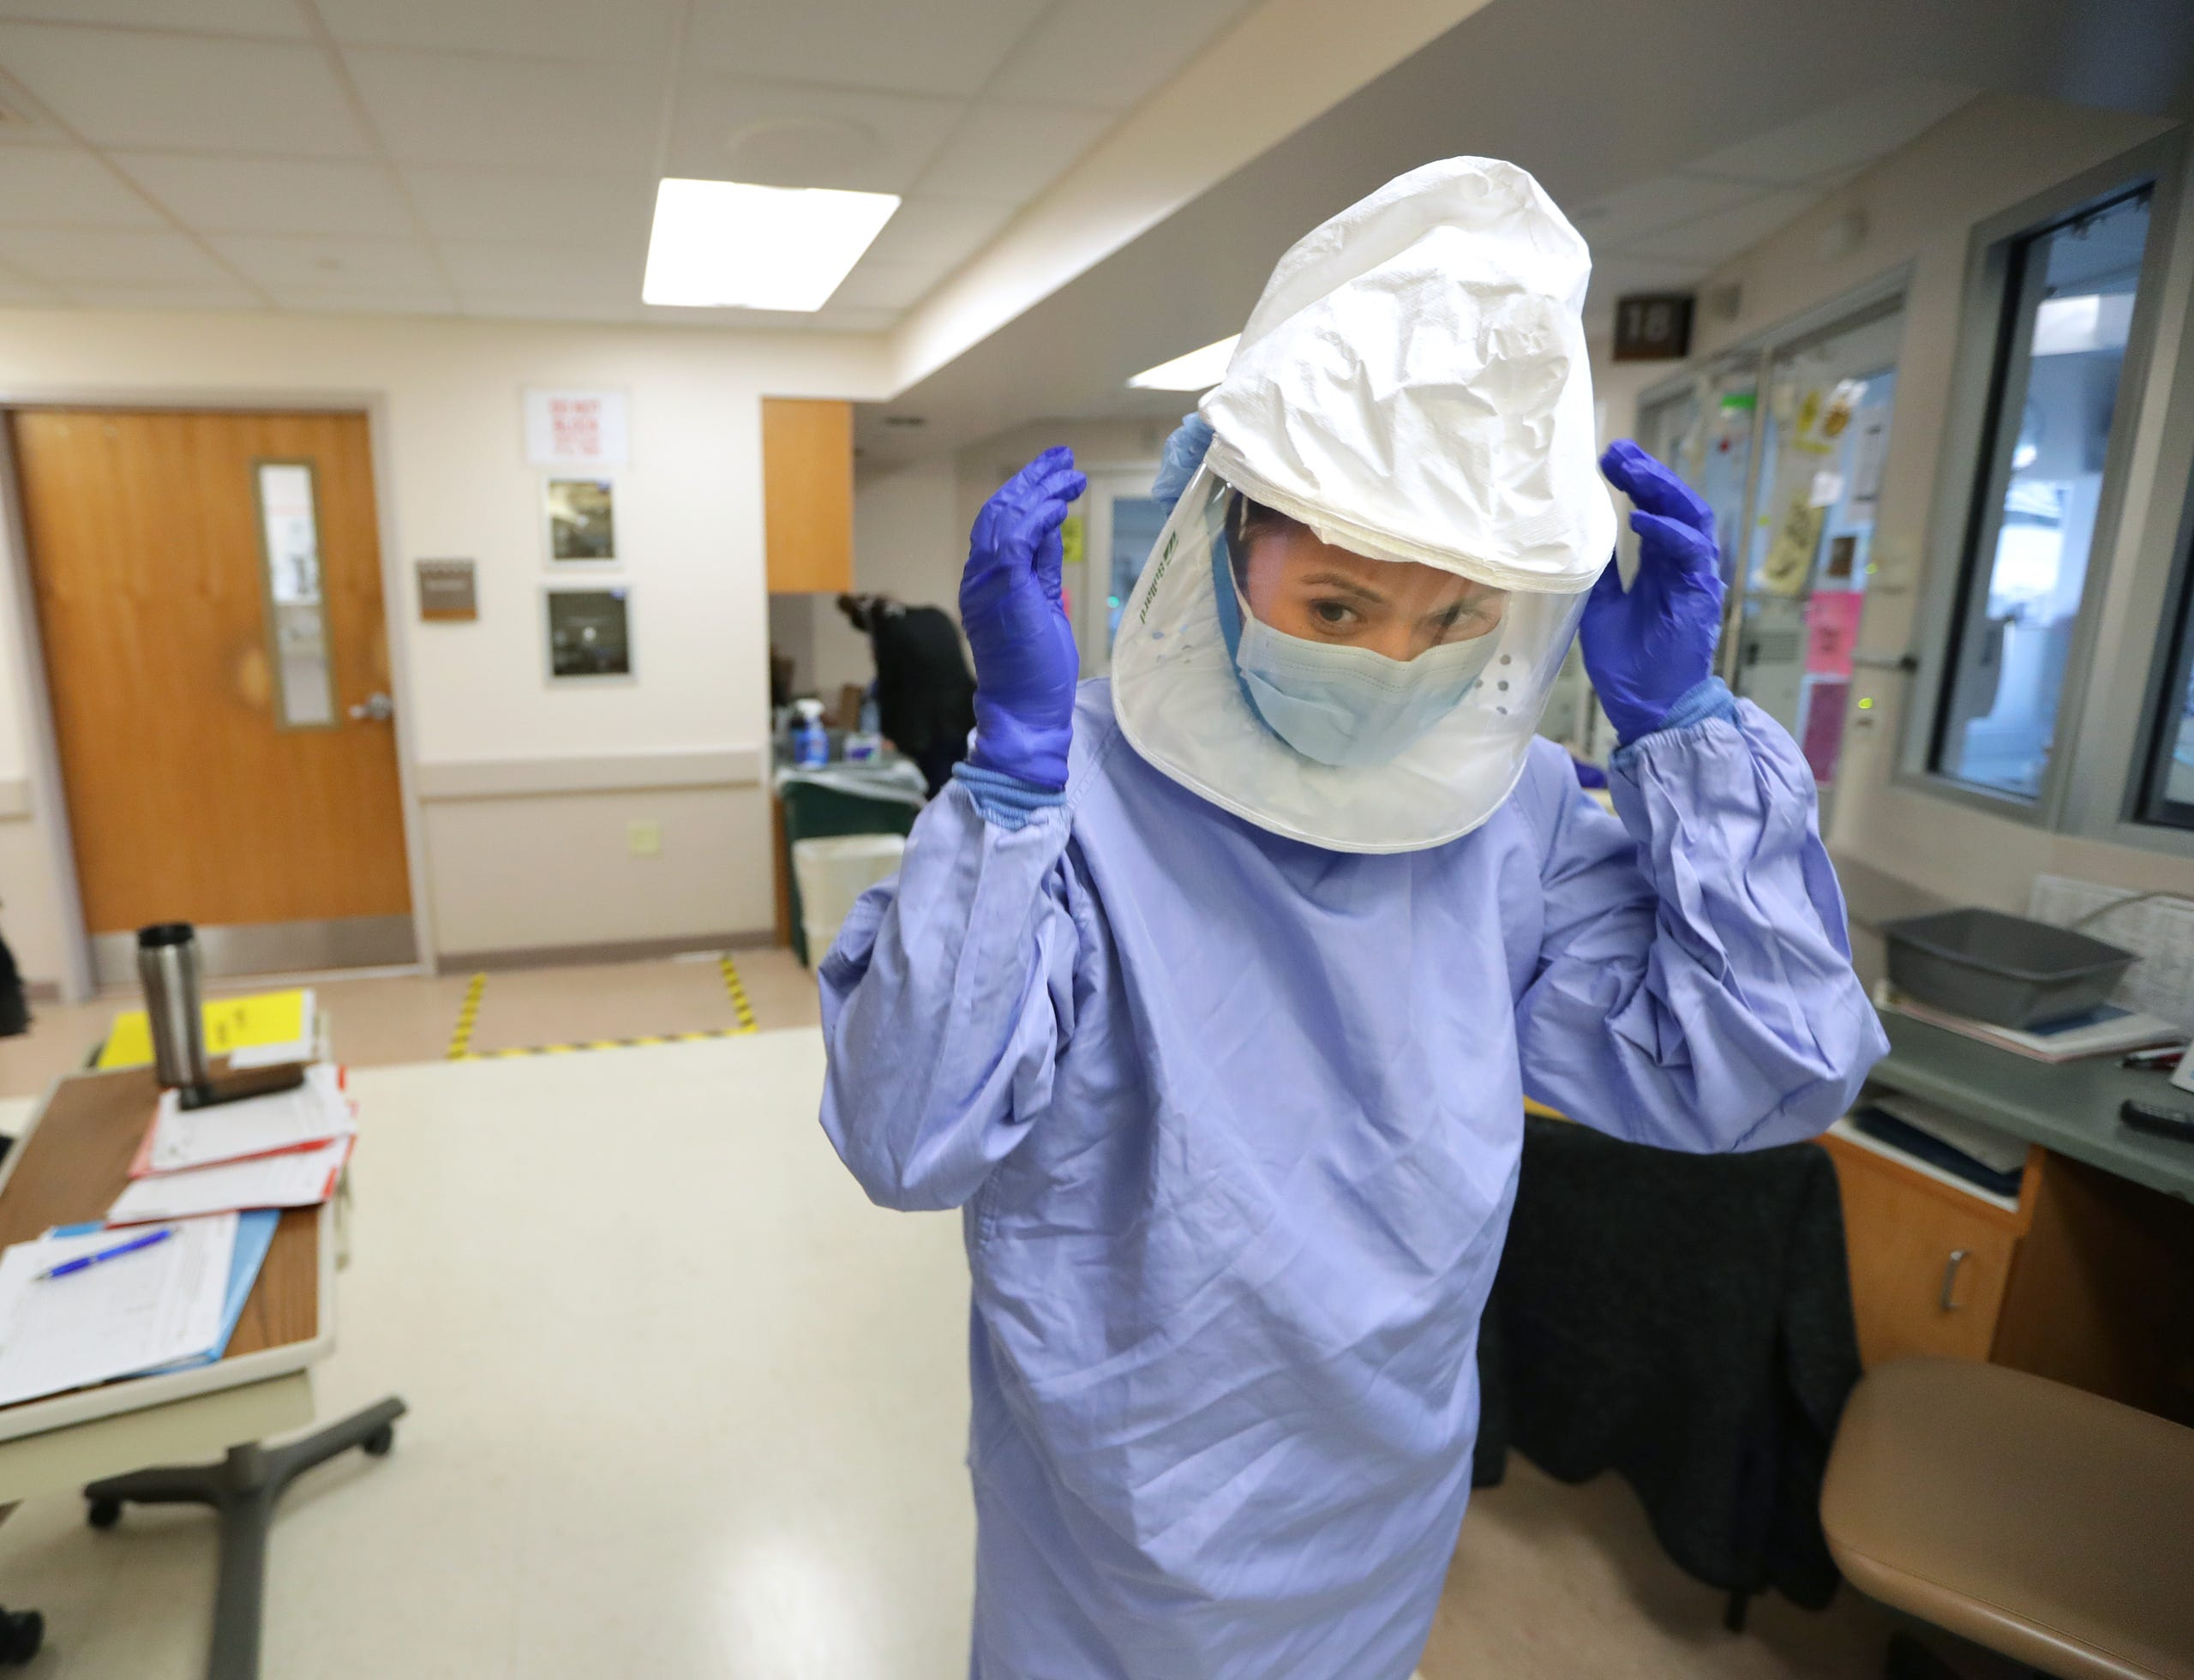Coverall: (838, 632, 1760, 1680)
Gloves: (948, 443, 1100, 810), (1575, 430, 1753, 739)
with_mask: (1245, 567, 1507, 777)
